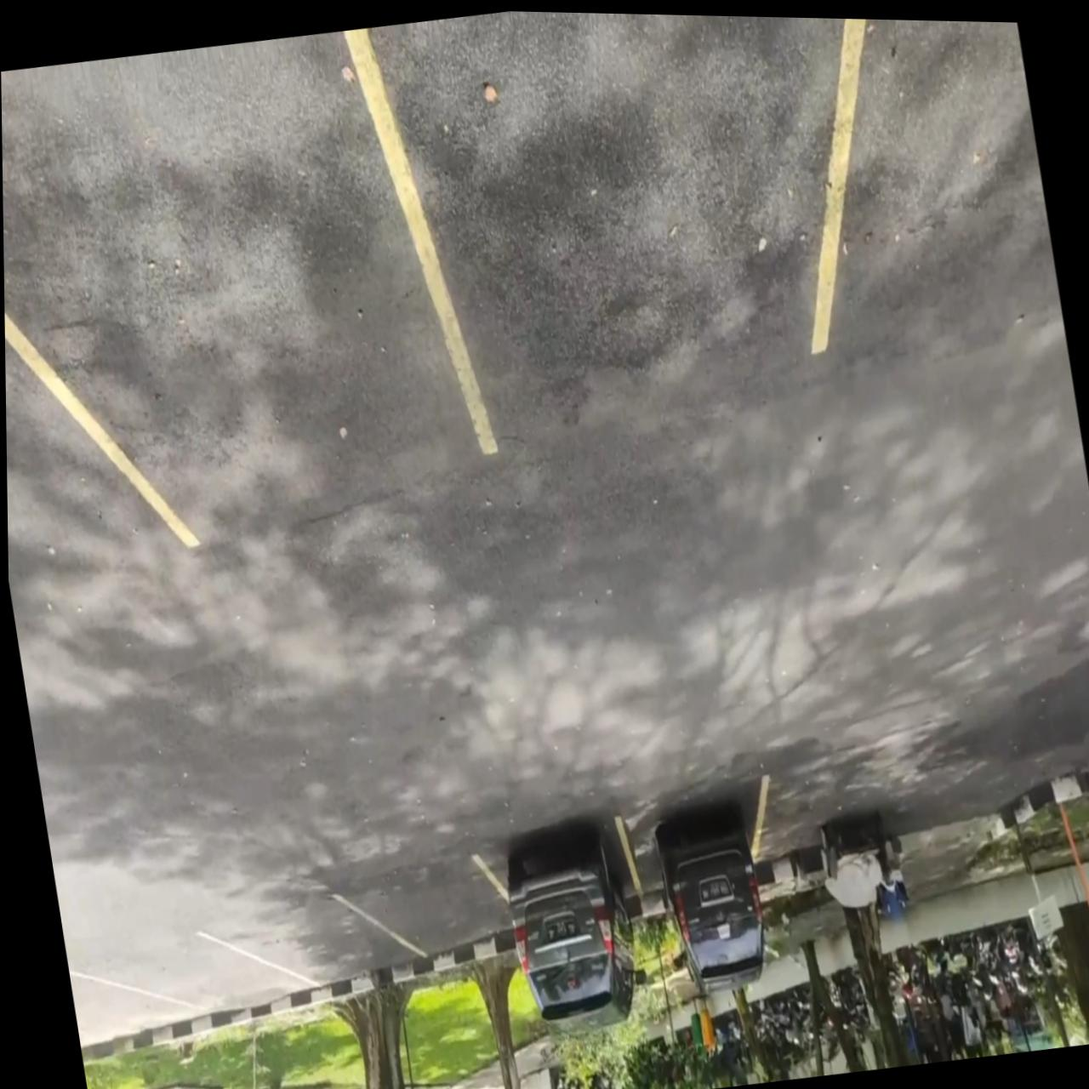cars: (617, 777, 765, 907), (477, 820, 644, 933)
empty: (4, 30, 488, 539), (357, 11, 856, 444), (200, 897, 434, 990), (335, 858, 535, 962), (71, 933, 327, 1014)
